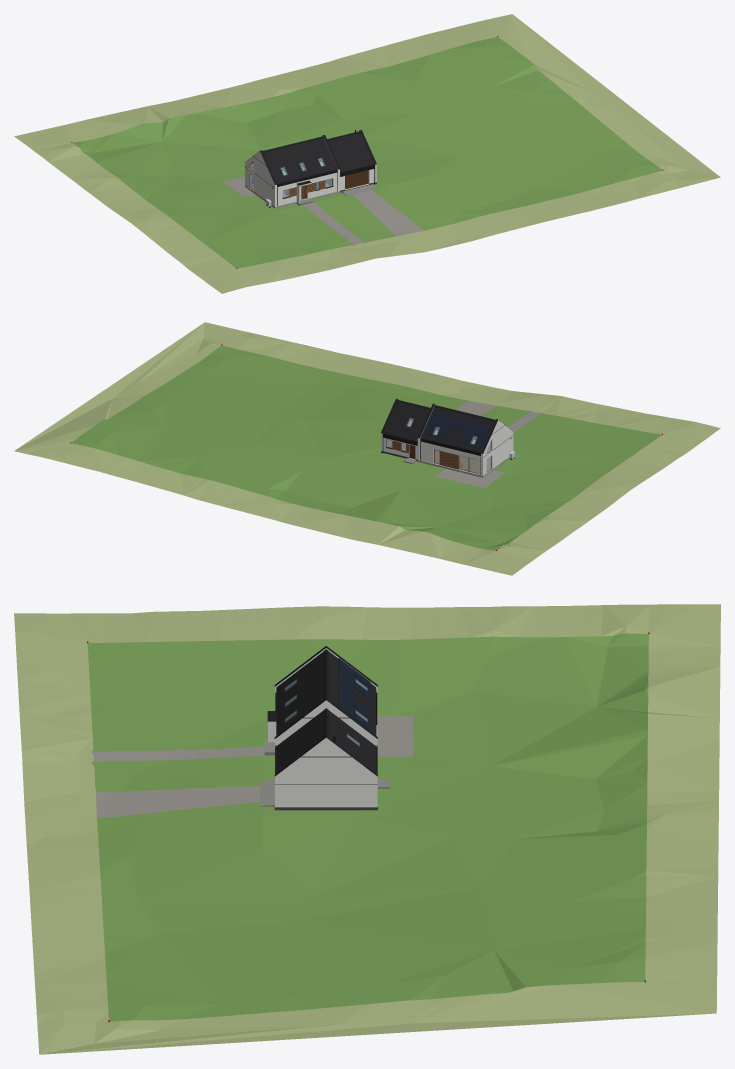
The model's file is dom_garaz_teren_braz.obj.
The picture shows the model from 3 angles, top to bottom: view 1: azimuth 30°, elevation 25°; view 2: azimuth 150°, elevation 25°; view 3: azimuth 270°, elevation 25°; orthographic projection. The views are drawn at different scales.
Parts seen in each view (by area): view 1: Teren_–_działka, Teren_–_otoczenie, Teren_–_utwardzenia, Dom_–_Dach_–_połać_frontowa, Garaż_–_Dach_–_połać_frontowa, Dom_–_Ściana_szczytowa_lewa, Dom_–_Ściana_frontowa; view 2: Teren_–_działka, Teren_–_otoczenie, Teren_–_utwardzenia, Dom_–_Dach_–_połać_ogrodowa, Garaż_–_Dach_–_połać_ogrodowa, Dom_–_Instalacja_fotowoltaiczna, Dom_–_Ściana_szczytowa_lewa, Dom_–_Ściana_ogrodowa; view 3: Teren_–_działka, Teren_–_otoczenie, Teren_–_utwardzenia, Garaż_–_Ściana_szczytowa_prawa, Dom_–_Dach_–_połać_frontowa, Garaż_–_Dach_–_połać_frontowa, Garaż_–_Dach_–_połać_ogrodowa, Dom_–_Instalacja_fotowoltaiczna, Dom_–_Dach_–_połać_ogrodowa, Dom_–_Ściana_szczytowa_prawa.
Boxes of the visible parts, x1=… form: Teren_–_działka: x1=72, y1=37, x2=662, y2=268; Teren_–_otoczenie: x1=14, y1=14, x2=720, y2=293; Teren_–_utwardzenia: x1=223, y1=176, x2=424, y2=245; Dom_–_Dach_–_połać_frontowa: x1=263, y1=138, x2=337, y2=183; Garaż_–_Dach_–_połać_frontowa: x1=328, y1=133, x2=374, y2=172; Dom_–_Ściana_szczytowa_lewa: x1=245, y1=151, x2=276, y2=206; Dom_–_Ściana_frontowa: x1=277, y1=172, x2=337, y2=205; Teren_–_działka: x1=71, y1=345, x2=661, y2=550; Teren_–_otoczenie: x1=14, y1=322, x2=720, y2=575; Teren_–_utwardzenia: x1=435, y1=400, x2=541, y2=488; Dom_–_Dach_–_połać_ogrodowa: x1=420, y1=407, x2=494, y2=452; Garaż_–_Dach_–_połać_ogrodowa: x1=383, y1=401, x2=429, y2=441; Dom_–_Instalacja_fotowoltaiczna: x1=423, y1=412, x2=490, y2=447; Dom_–_Ściana_szczytowa_lewa: x1=481, y1=420, x2=513, y2=475; Dom_–_Ściana_ogrodowa: x1=420, y1=441, x2=480, y2=474; Teren_–_działka: x1=87, y1=633, x2=648, y2=1021; Teren_–_otoczenie: x1=14, y1=604, x2=720, y2=1054; Teren_–_utwardzenia: x1=91, y1=716, x2=412, y2=818; Garaż_–_Ściana_szczytowa_prawa: x1=275, y1=737, x2=377, y2=807; Dom_–_Dach_–_połać_frontowa: x1=276, y1=651, x2=323, y2=735; Garaż_–_Dach_–_połać_frontowa: x1=276, y1=710, x2=323, y2=772; Garaż_–_Dach_–_połać_ogrodowa: x1=328, y1=710, x2=375, y2=772; Dom_–_Instalacja_fotowoltaiczna: x1=338, y1=658, x2=370, y2=730; Dom_–_Dach_–_połać_ogrodowa: x1=328, y1=651, x2=375, y2=735; Dom_–_Ściana_szczytowa_prawa: x1=275, y1=700, x2=377, y2=746.
Bounding box in the file's own units: 83.06 × 9.05 × 59.08.
